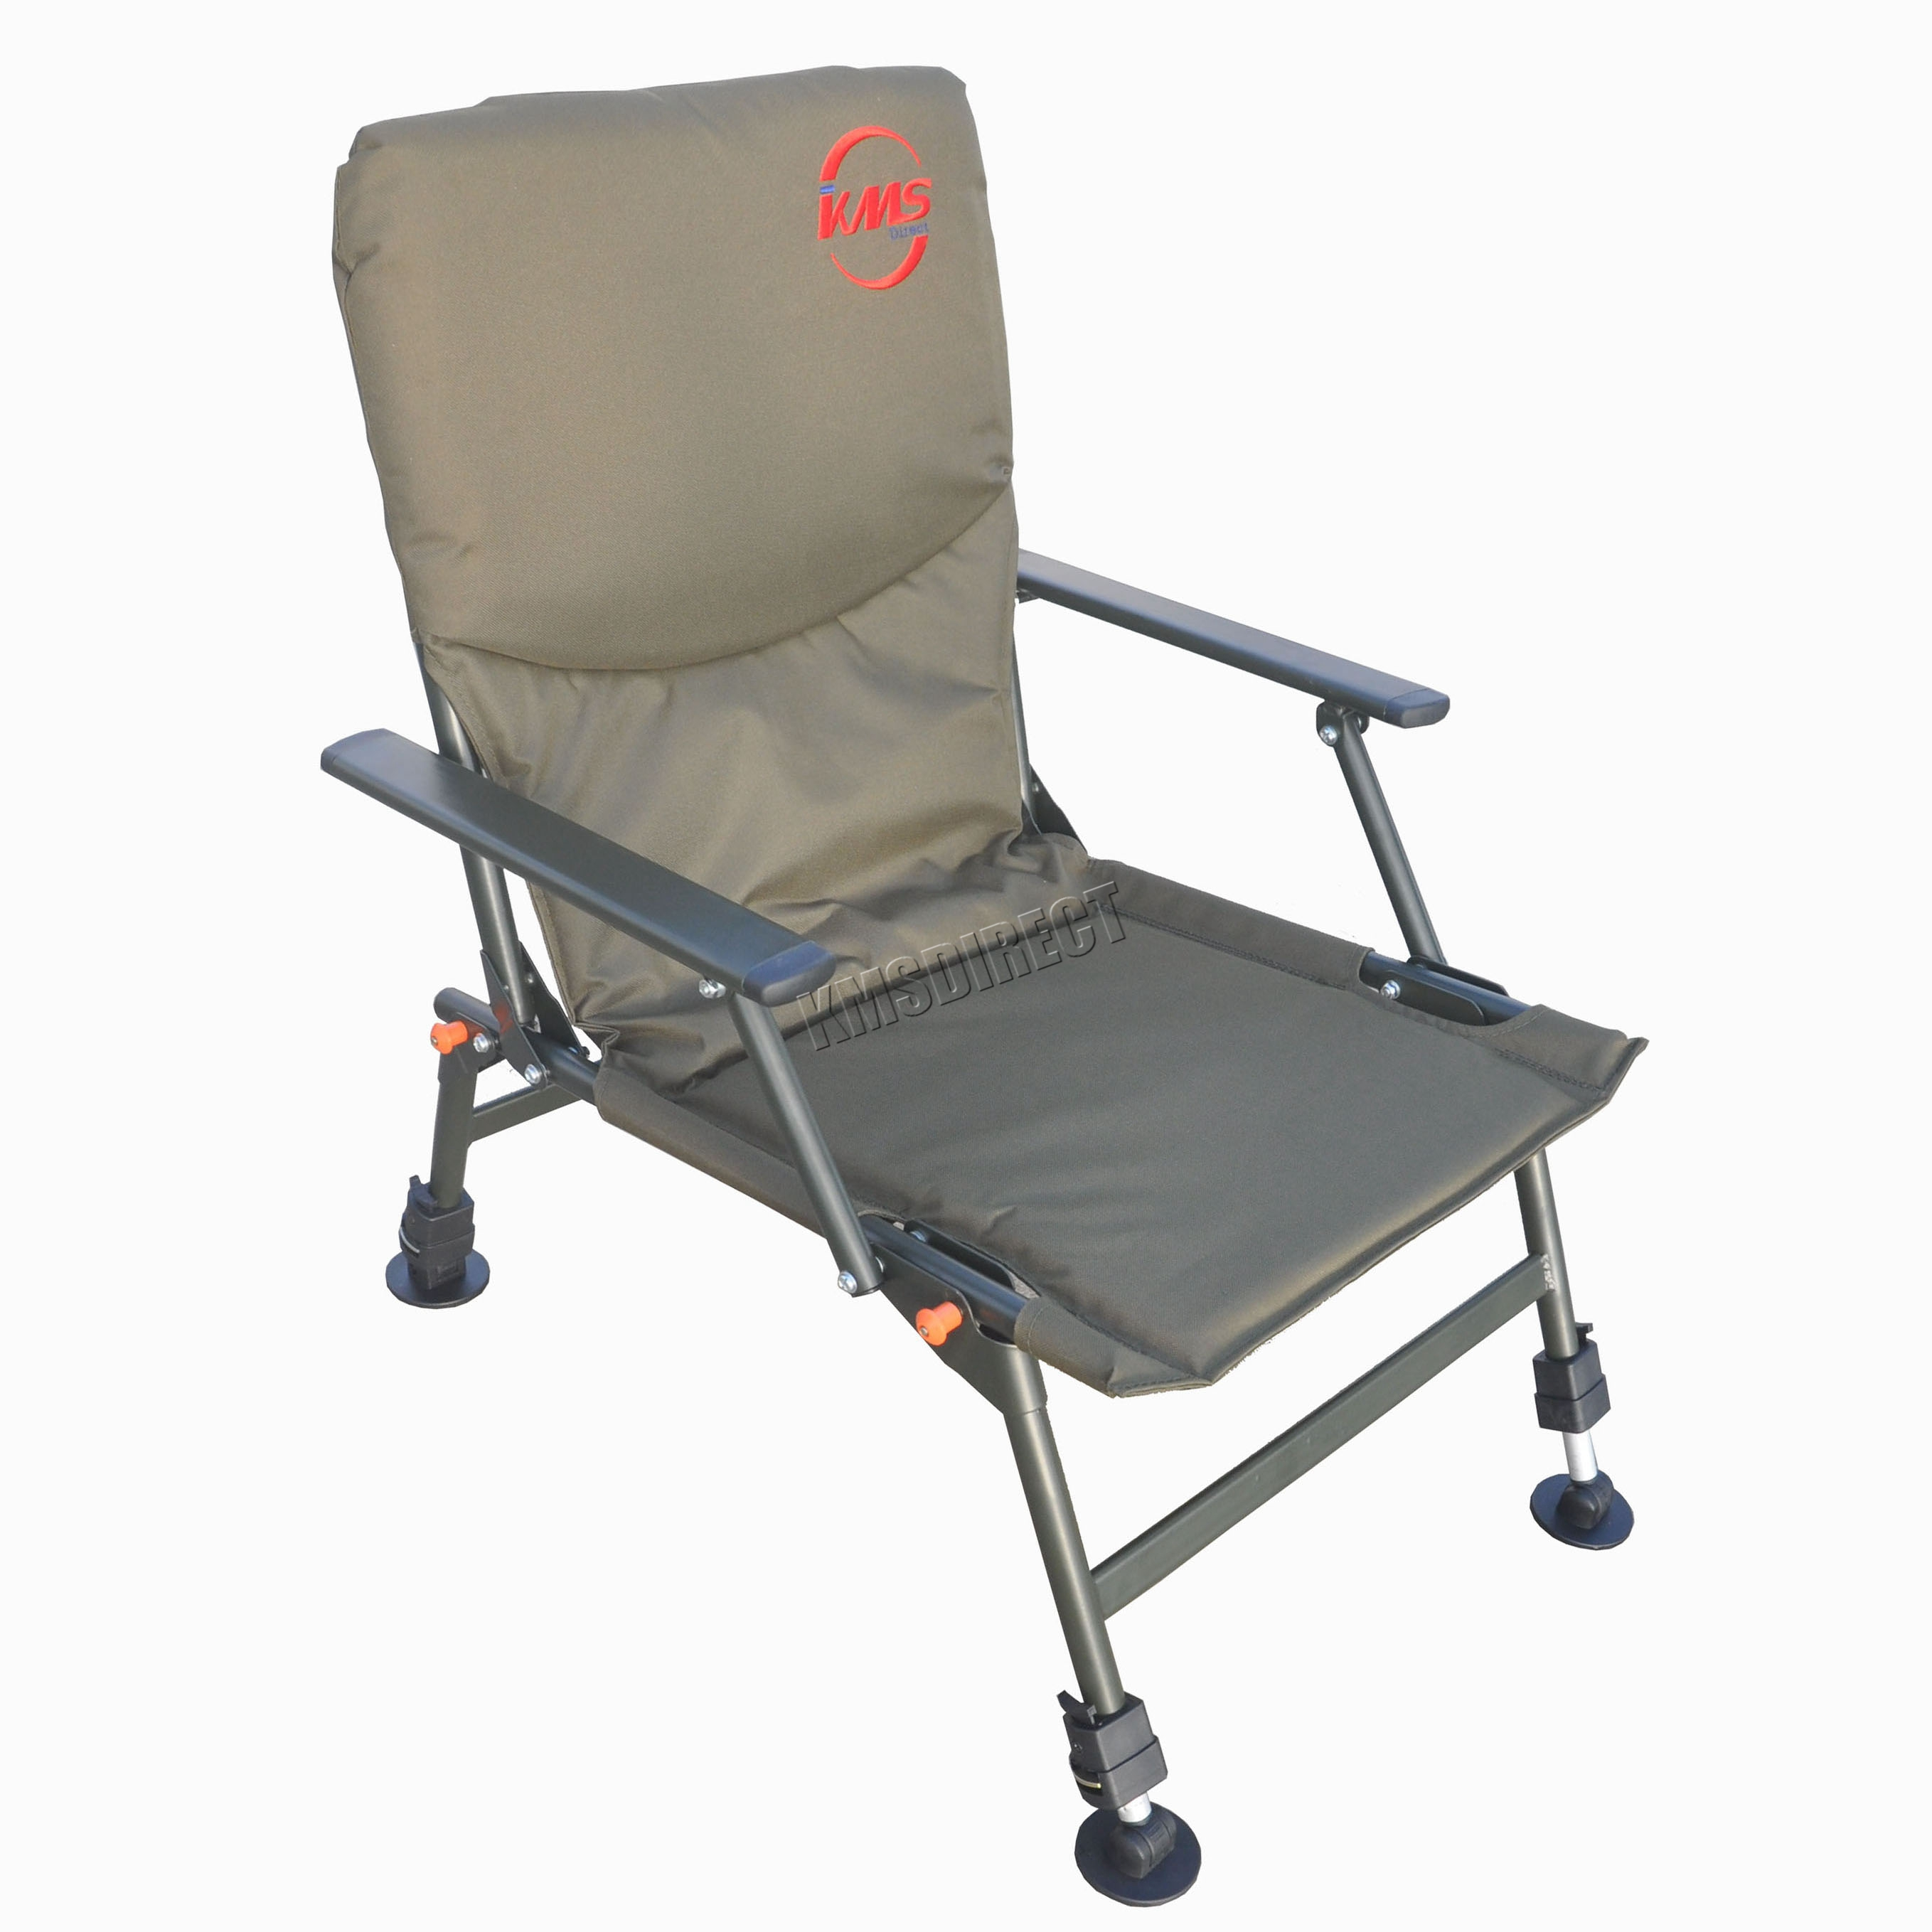chairs: (308, 62, 1661, 1914)
